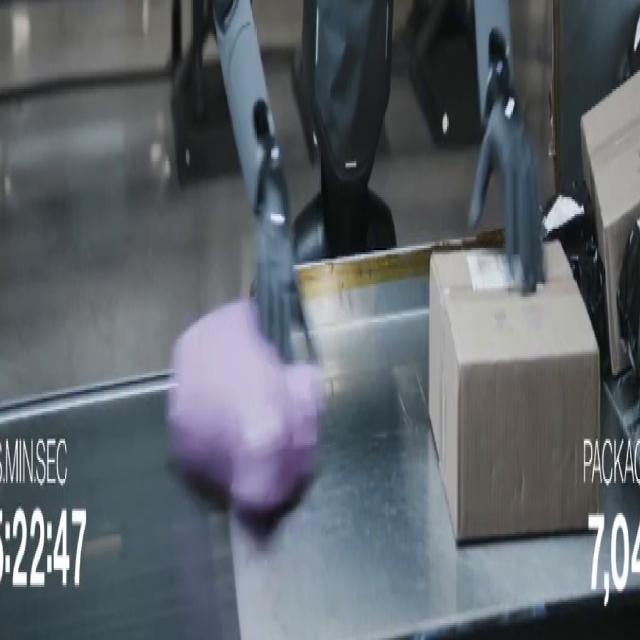package: (430, 242, 600, 542), (429, 248, 515, 455), (581, 75, 639, 375), (542, 181, 609, 372), (617, 221, 639, 377)
